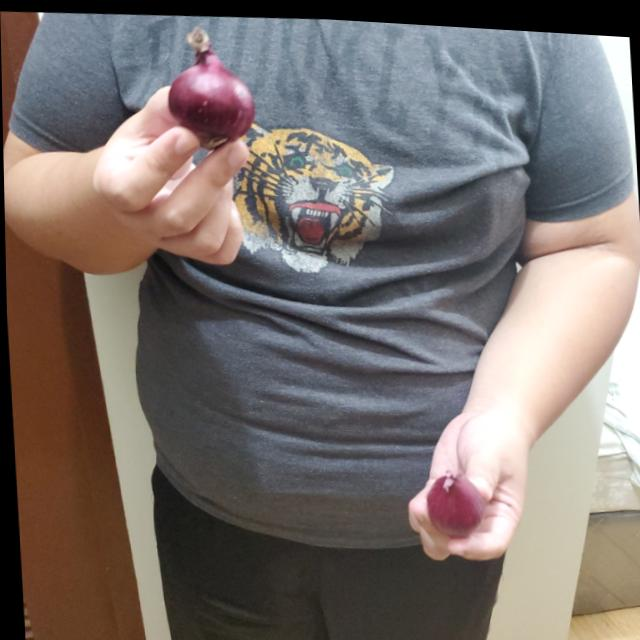onion: (166, 30, 254, 143), (421, 466, 485, 532)
